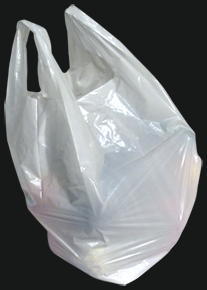Nonrec_Plastic: (6, 4, 203, 288)
